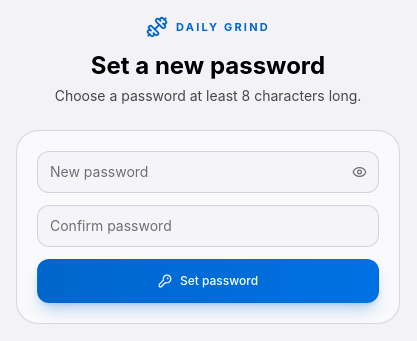
Scenario: PasswordResetScreen › shows success state when password update succeeds
In the password field with placeholder "New password": (208, 172) [37,151,379,193], type "newpassword1"
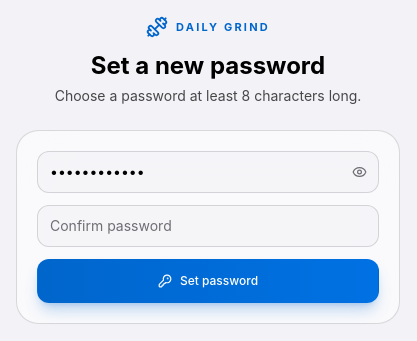
In the password field with placeholder "Confirm password": (208, 226) [37,205,379,247], type "newpassword1"
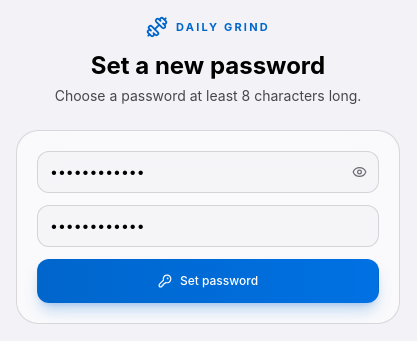
Click the button "Set password": (208, 281) [37,259,379,303]
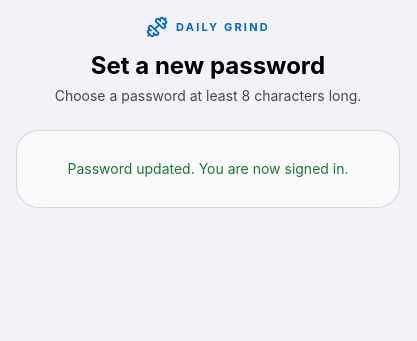
Now the text "Password updated. You are now signed in." is shown, box [68,160,348,177]
